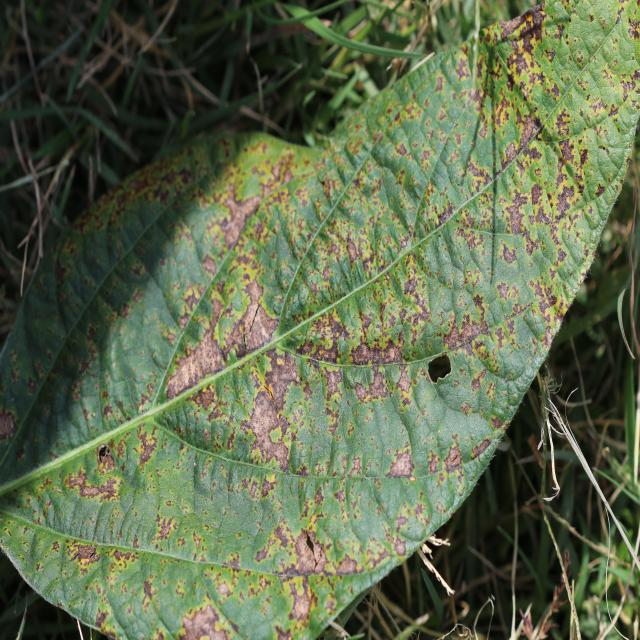Bacterial_Blight: (218, 272, 288, 366), (251, 358, 300, 462), (165, 321, 228, 397), (259, 349, 302, 417), (214, 193, 260, 253), (179, 604, 233, 640), (453, 209, 491, 260), (449, 306, 491, 347), (70, 467, 120, 501), (359, 365, 394, 404), (504, 187, 532, 235), (294, 532, 325, 575), (350, 339, 399, 366), (513, 114, 542, 158), (287, 580, 313, 625), (508, 43, 536, 81), (66, 541, 102, 567), (322, 365, 346, 403), (385, 449, 414, 479), (136, 429, 160, 465), (554, 183, 576, 219), (65, 465, 89, 491), (333, 553, 361, 575), (443, 442, 464, 469), (155, 516, 176, 543), (0, 409, 17, 440), (454, 54, 470, 81), (470, 440, 490, 461), (560, 140, 576, 165), (530, 183, 544, 206), (404, 273, 418, 295), (427, 451, 440, 474), (142, 579, 155, 602)
Soybean: (0, 0, 640, 640)
